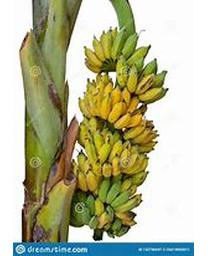banana: (73, 25, 170, 240)
